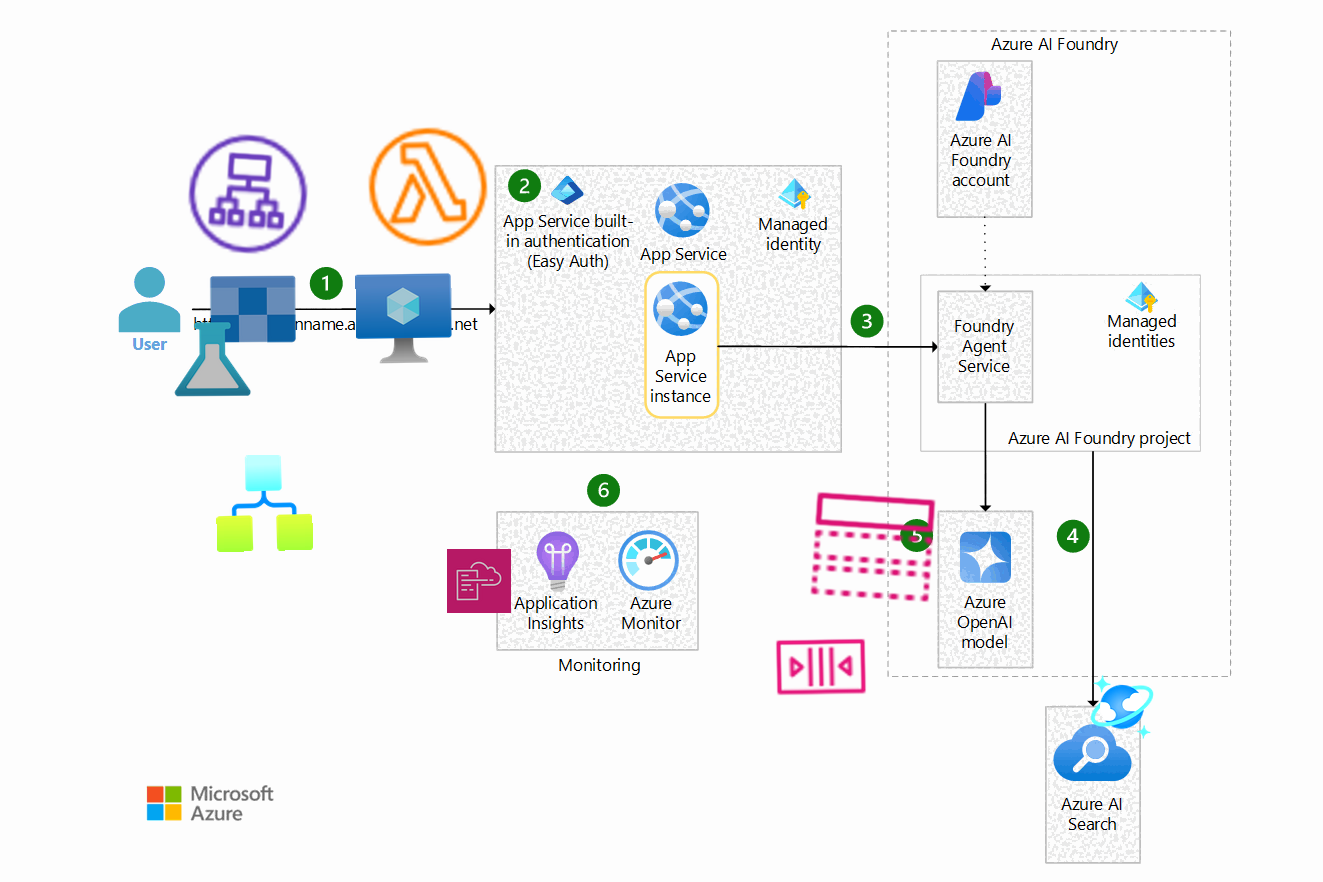aws_cloudformation: (446, 548, 512, 614)
aws_elastic_load_balancing_application_load_balancer: (179, 125, 317, 263)
aws_lambda_lambda_function: (361, 120, 495, 254)
aws_simple_notification_service_topic: (804, 478, 942, 616)
aws_simple_queue_service_queue: (772, 617, 870, 715)
azure_cosmos_db: (1087, 672, 1157, 742)
azure_logic_apps: (214, 453, 314, 553)
azure_machine_learning_studio_workspaces: (170, 271, 300, 401)
azure_virtual_machine: (355, 272, 453, 370)
